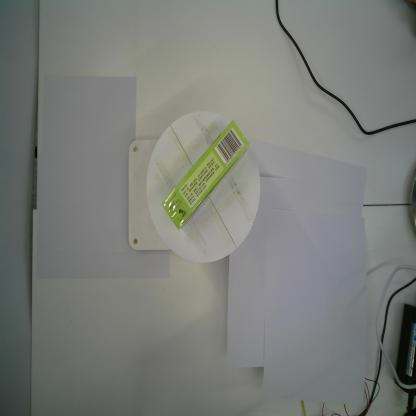Instant Drink: (161, 120, 250, 231)
